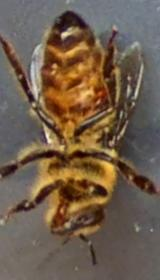varroa_mite: (87, 77, 111, 110)
